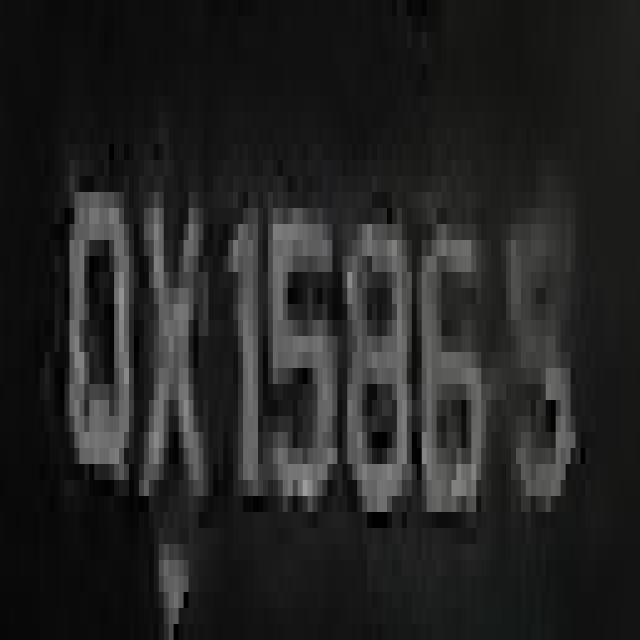1: (213, 144, 268, 592)
5: (268, 144, 352, 576)
6: (412, 144, 486, 576)
8: (347, 144, 412, 528)
Q: (55, 144, 134, 544)
S: (491, 144, 576, 544)
X: (134, 144, 223, 544)
